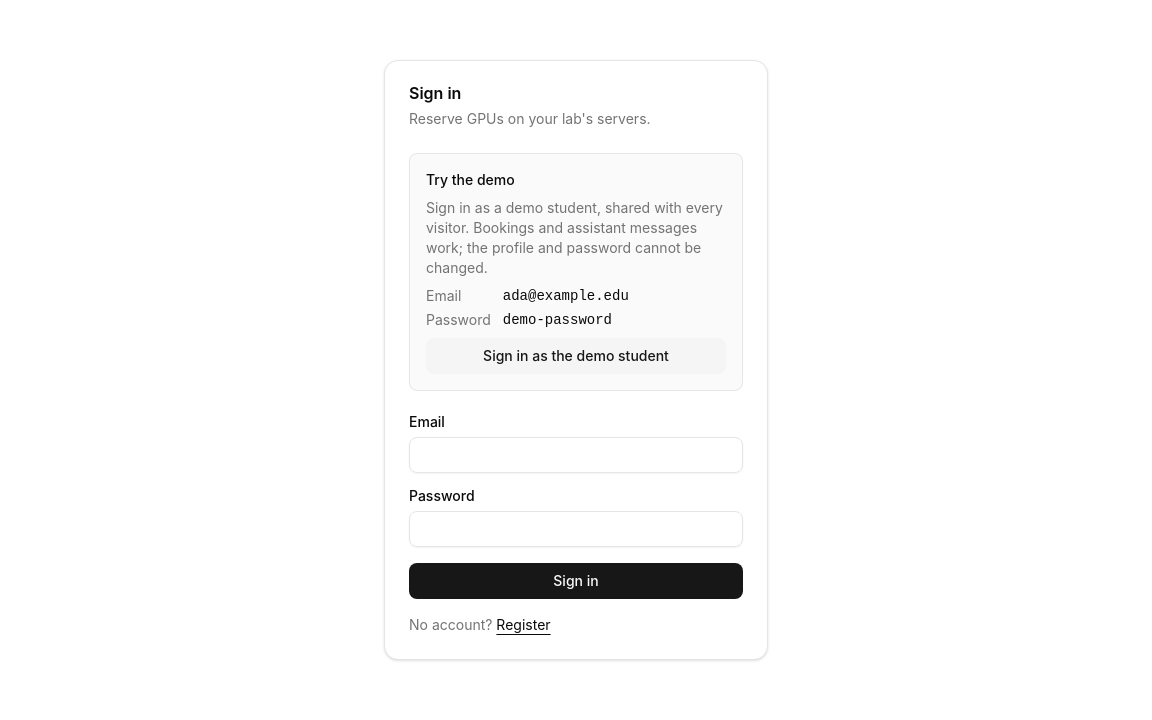
Test: demo account › is offered on the login page and signs in with one click
The width and height of the screenshot is (1152, 720).
expect the text "ada@example.edu" is shown: met, box [503,288,629,304]
expect the text "demo-password" is shown: met, box [503,312,612,328]
Click the button "Sign in as the demo student" at (576, 356), box [426,338,726,374]
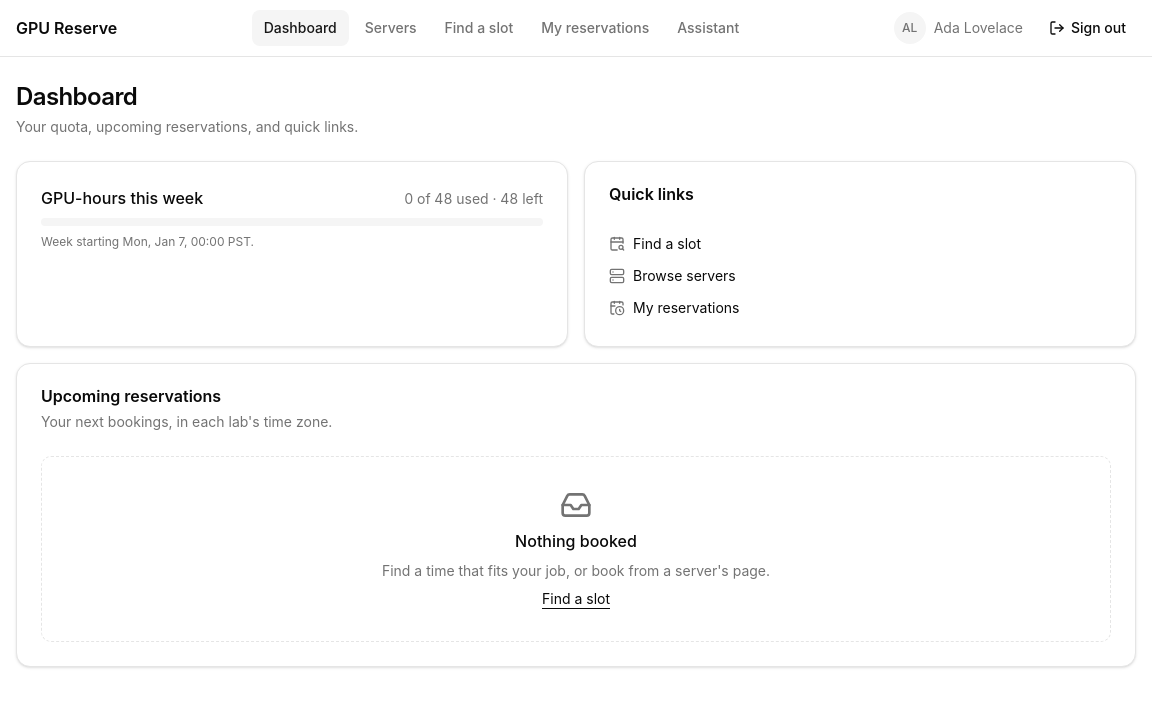
expect the heading "Dashboard" is shown: met, box [16,82,137,111]
